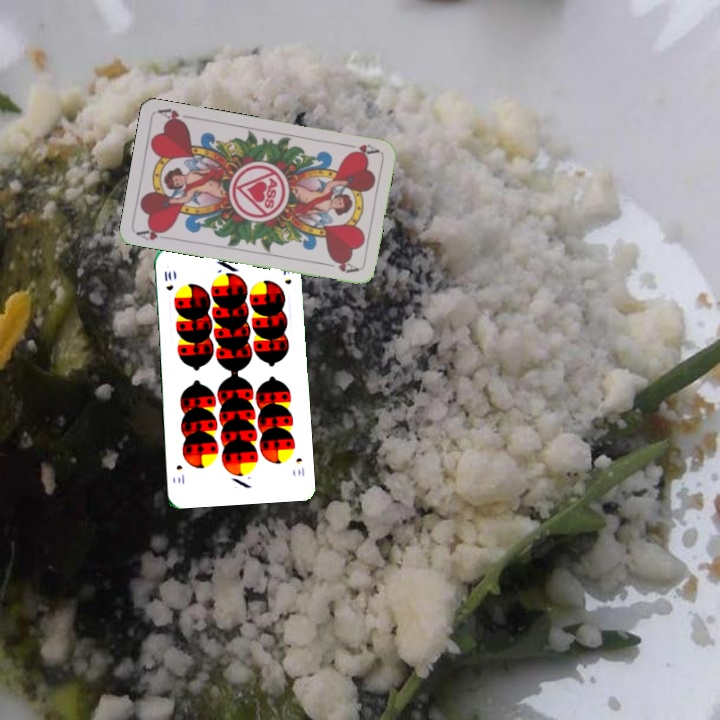HA: (133, 223, 174, 243), (340, 140, 381, 159)
S10: (160, 267, 175, 293), (292, 454, 307, 479)
